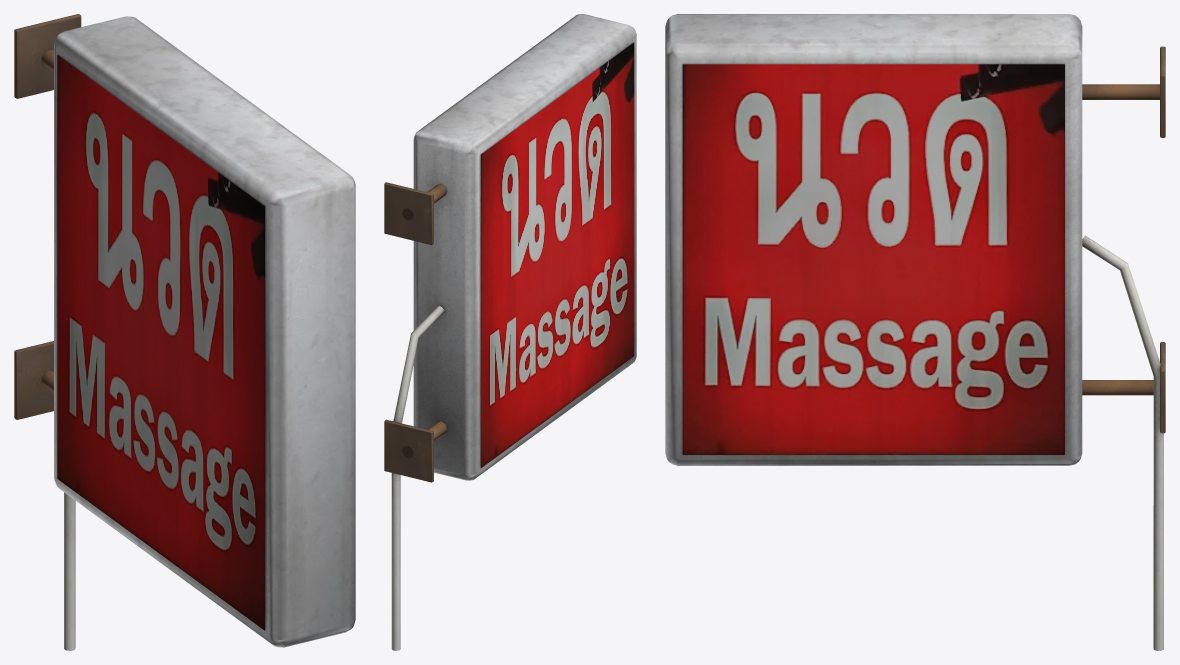
Rendered from signbox_massage.glb.
The picture shows the model from 3 angles, left to right: view 1: azimuth 30°, elevation 25°; view 2: azimuth 150°, elevation 25°; view 3: azimuth 270°, elevation 25°; orthographic projection. The views are drawn at different scales.
Parts seen in each view (by area): view 1: signbox_massage; view 2: signbox_massage; view 3: signbox_massage.
Boxes of the visible parts, x1,y1,x2,y2 form: signbox_massage: (14, 14, 355, 650); signbox_massage: (384, 14, 636, 650); signbox_massage: (665, 14, 1165, 650).
Bounding box in the file's own units: 0.134 × 0.97 × 0.72.
1 material, 1 textured.
